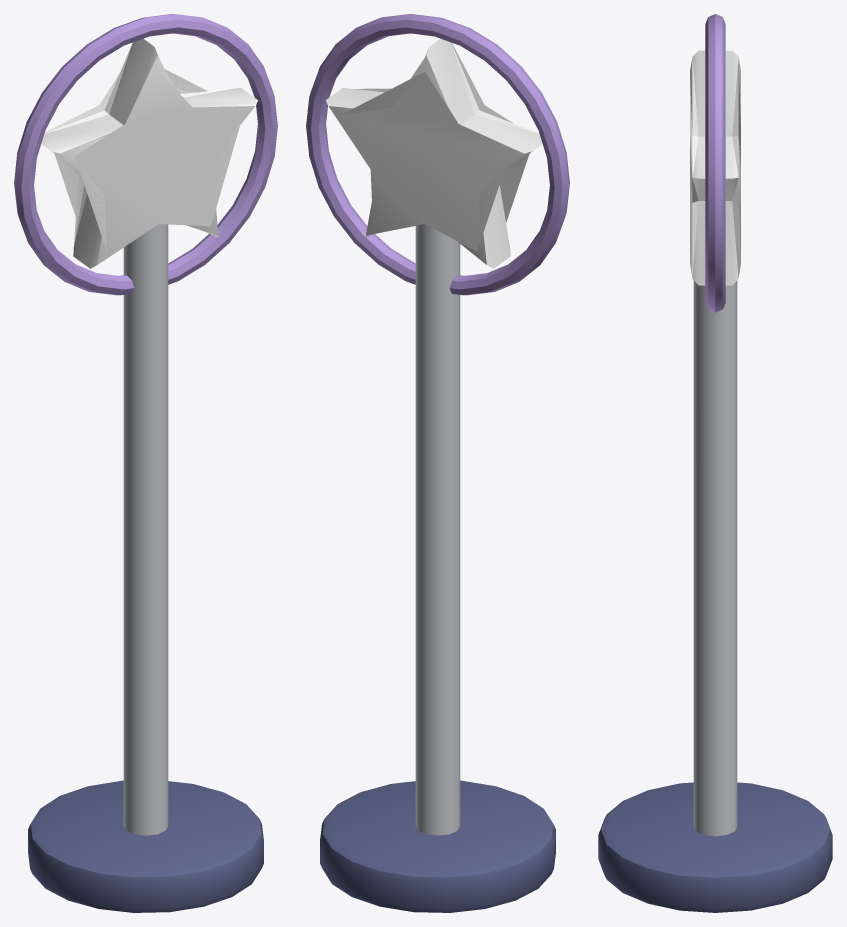
The model's file is SM_IncStarLantern.fbx.
3 views of the same model, side by side, from view 1: azimuth 30°, elevation 25°; view 2: azimuth 150°, elevation 25°; view 3: azimuth 270°, elevation 25° (orthographic).
Visible parts, largest first — view 1: IncStarLantern, StarGlass; view 2: IncStarLantern, StarGlass; view 3: IncStarLantern, StarGlass.
Part boxes in pixels (x1,y1,x2,y2): IncStarLantern: (14,14,277,912); StarGlass: (41,38,257,268); IncStarLantern: (306,14,569,912); StarGlass: (326,38,542,268); IncStarLantern: (598,14,832,912); StarGlass: (690,50,740,285).
Bounding box in the file's own units: 0.408 × 1.26 × 0.32.
